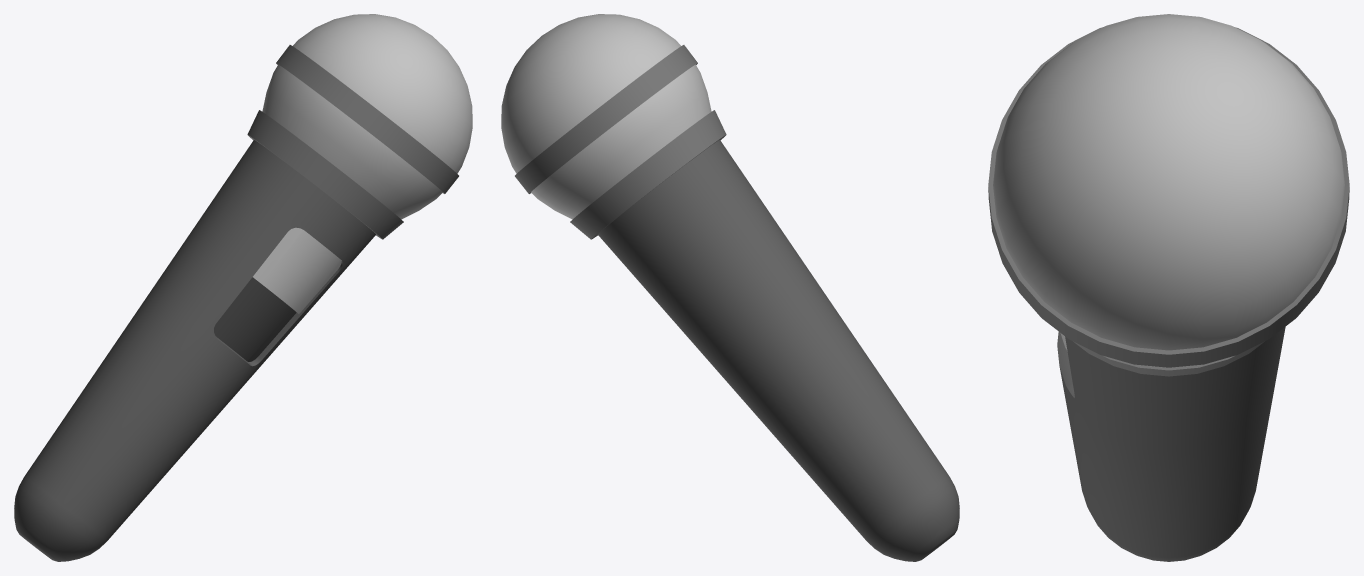
File: microphone.glb
3 renders of one model, left to right at view 1: azimuth 30°, elevation 25°; view 2: azimuth 150°, elevation 25°; view 3: azimuth 270°, elevation 25°, orthographic. The views are drawn at different scales.
Parts seen in each view (by area): view 1: Sphere.526; view 2: Sphere.526; view 3: Sphere.526.
Part boxes in pixels (box(x1,y1,x2,y2)): Sphere.526: box(14, 14, 472, 561); Sphere.526: box(501, 14, 959, 561); Sphere.526: box(988, 14, 1349, 561).
Size of the model in its own units: 1.87 by 1.87 by 0.7926.
Materials: 1 (1 with a texture image).
